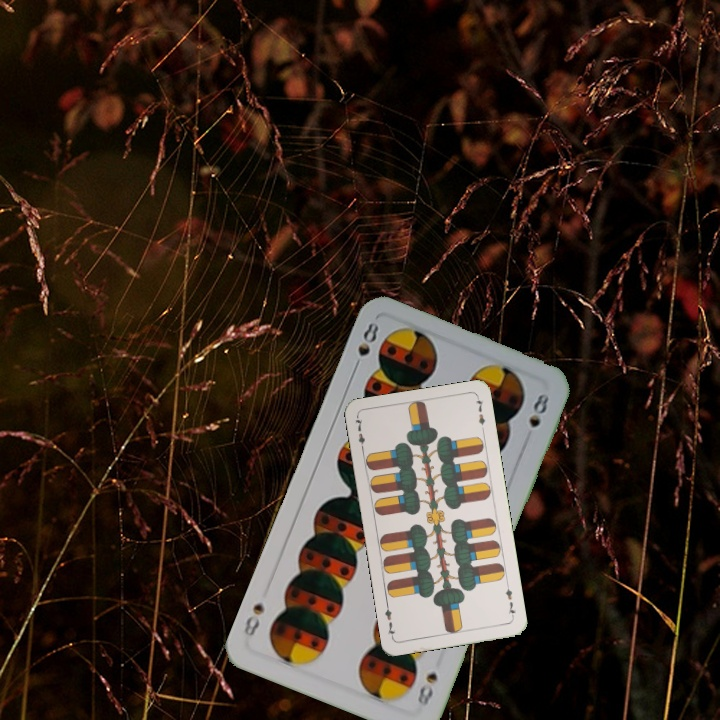E7: (501, 580, 518, 621), (352, 413, 368, 454)
S8: (349, 318, 382, 374), (413, 668, 440, 709)
